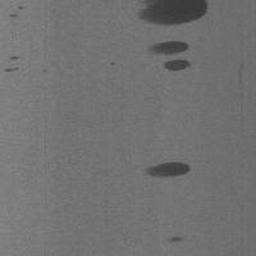Oil spot: (129, 0, 210, 27), (145, 40, 193, 73), (143, 160, 192, 179), (8, 5, 27, 19), (168, 236, 186, 244), (3, 67, 20, 73), (9, 55, 20, 61)
